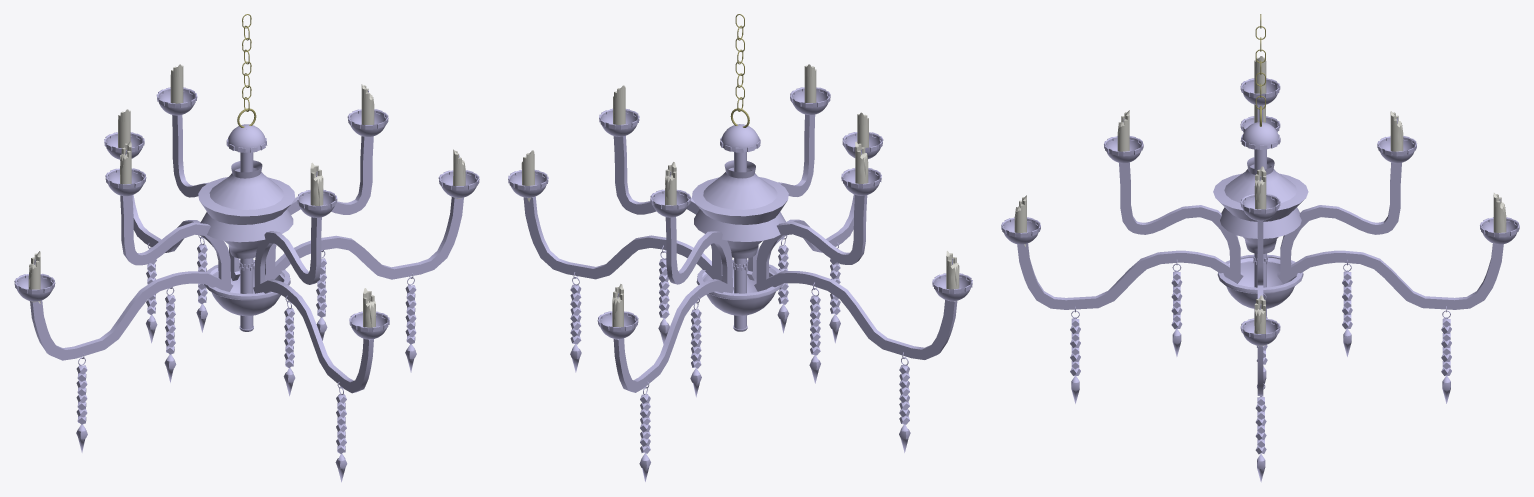
File: ChandelierPurple2.fbx
3 views of the same model, side by side, from view 1: azimuth 30°, elevation 25°; view 2: azimuth 150°, elevation 25°; view 3: azimuth 270°, elevation 25° (orthographic). The views are drawn at different scales.
Visible parts, largest first — view 1: polySurface25, pSphere7, polySurface89, polySurface84, polySurface88, pCylinder2, pSphere8, polySurface86, pTorus7, polySurface83, pTorus5, polySurface91 (+5 smaller); view 2: polySurface25, pSphere7, polySurface89, polySurface84, polySurface88, pCylinder2, pSphere8, polySurface86, pTorus7, polySurface83, pTorus5, polySurface91 (+4 smaller); view 3: polySurface25, pSphere7, pSphere8, pTorus5, polySurface83, pCylinder2, polySurface85, polySurface87, polySurface90, pTorus7.
Boxes of the visible parts, x1=… form: polySurface25: x1=104, y1=87, x2=389, y2=393; pSphere7: x1=198, y1=160, x2=295, y2=258; polySurface89: x1=30, y1=271, x2=233, y2=360; polySurface84: x1=265, y1=197, x2=463, y2=281; polySurface88: x1=120, y1=195, x2=230, y2=284; pCylinder2: x1=226, y1=124, x2=267, y2=331; pSphere8: x1=204, y1=260, x2=290, y2=316; polySurface86: x1=265, y1=136, x2=373, y2=275; pTorus7: x1=76, y1=273, x2=416, y2=452; polySurface83: x1=196, y1=235, x2=295, y2=396; pTorus5: x1=146, y1=243, x2=347, y2=482; polySurface91: x1=14, y1=273, x2=55, y2=301; polySurface25: x1=597, y1=87, x2=883, y2=392; pSphere7: x1=692, y1=160, x2=788, y2=258; polySurface89: x1=754, y1=271, x2=957, y2=359; polySurface84: x1=523, y1=196, x2=722, y2=281; polySurface88: x1=756, y1=195, x2=867, y2=285; pCylinder2: x1=720, y1=124, x2=760, y2=331; pSphere8: x1=696, y1=259, x2=783, y2=315; polySurface86: x1=613, y1=136, x2=722, y2=275; pTorus7: x1=570, y1=272, x2=910, y2=452; polySurface83: x1=690, y1=235, x2=789, y2=397; pTorus5: x1=639, y1=243, x2=840, y2=481; polySurface91: x1=932, y1=273, x2=972, y2=301; polySurface25: x1=1001, y1=136, x2=1519, y2=309; pSphere7: x1=1213, y1=157, x2=1308, y2=253; pSphere8: x1=1217, y1=254, x2=1303, y2=308; pTorus5: x1=1070, y1=306, x2=1451, y2=403; polySurface83: x1=1171, y1=259, x2=1352, y2=356; pCylinder2: x1=1240, y1=122, x2=1280, y2=317; polySurface85: x1=1240, y1=318, x2=1280, y2=345; polySurface87: x1=1240, y1=193, x2=1280, y2=220; polySurface90: x1=1240, y1=78, x2=1280, y2=105; pTorus7: x1=1255, y1=383, x2=1266, y2=482.
Bounding box in the file's own units: 6.15 × 5.1 × 6.15.
